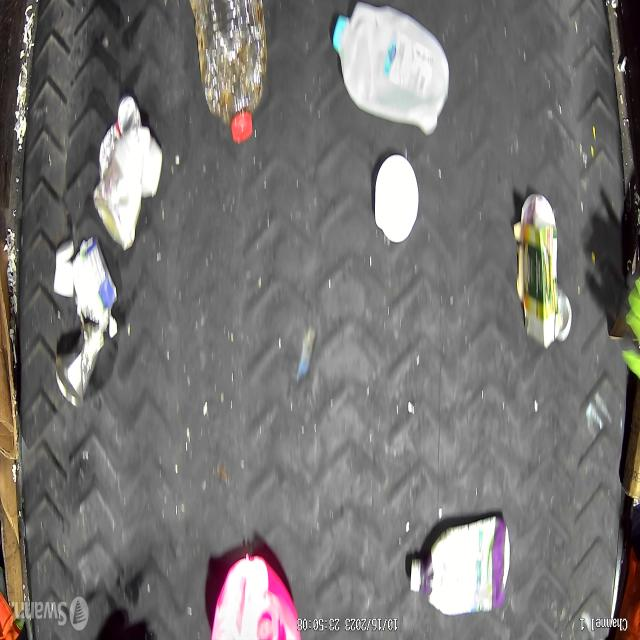can: (55, 322, 105, 406)
milk_jug: (328, 0, 451, 135)
non_white_jug: (207, 549, 300, 640)
plastic_bottle: (189, 0, 267, 145)
